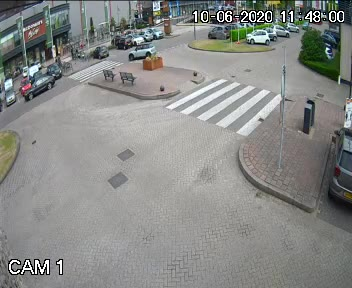car: (19, 75, 55, 96), (124, 41, 157, 60)
